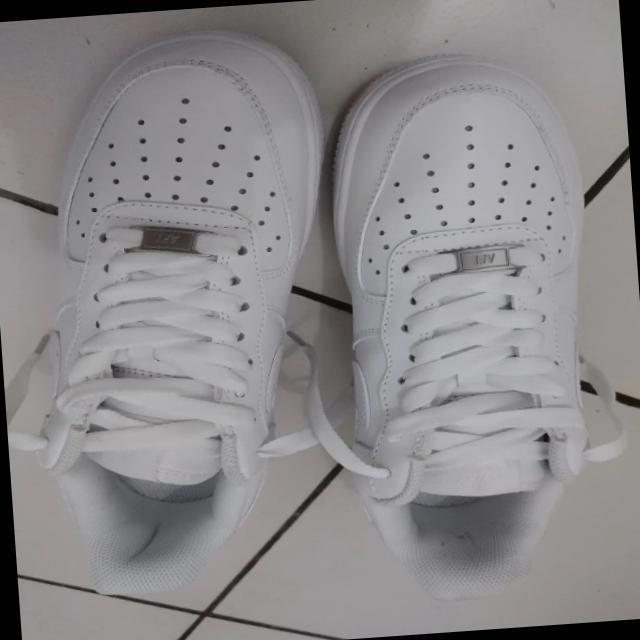nike original air force: (5, 20, 350, 603), (314, 49, 610, 612)
